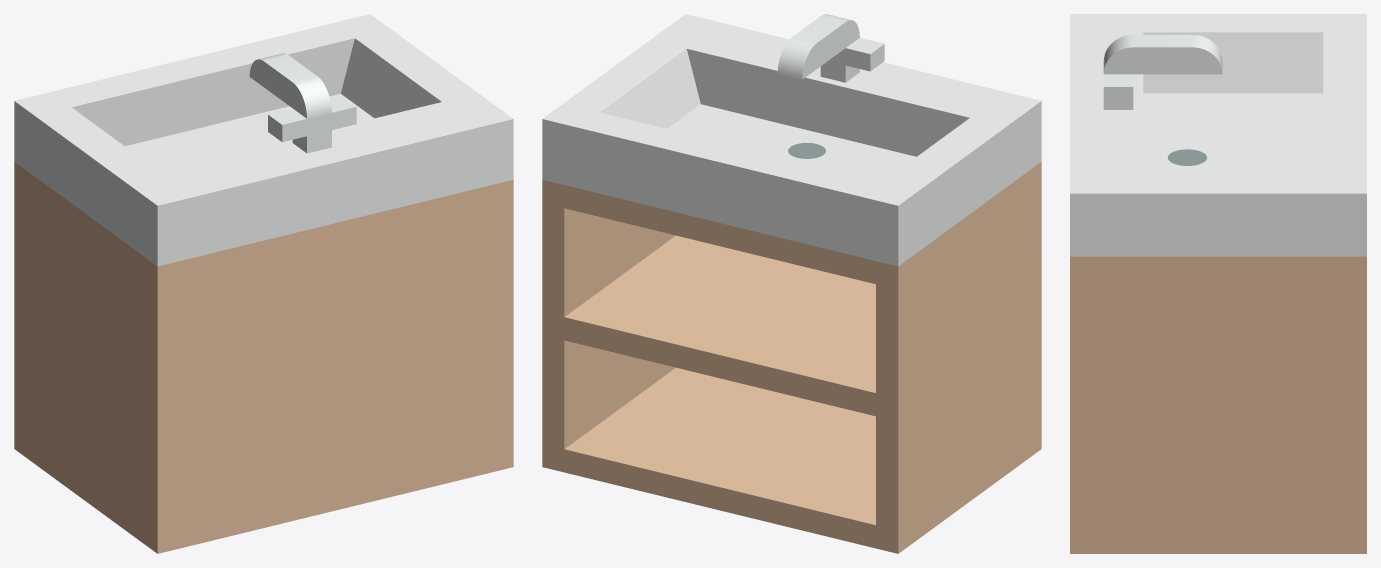
The model's file is Bathroom Cabinet Drawer.fbx.
3 renders of one model, left to right at view 1: azimuth 30°, elevation 25°; view 2: azimuth 150°, elevation 25°; view 3: azimuth 270°, elevation 25°, orthographic. The views are drawn at different scales.
Parts seen in each view (by area): view 1: bathroomCabinetDrawer; view 2: bathroomCabinetDrawer; view 3: bathroomCabinetDrawer.
Part boxes in pixels (x1=…): bathroomCabinetDrawer: x1=14, y1=14, x2=513, y2=553; bathroomCabinetDrawer: x1=542, y1=14, x2=1041, y2=553; bathroomCabinetDrawer: x1=1070, y1=14, x2=1366, y2=553.
Bounding box in the file's own units: 67.5 × 106 × 96.75.
